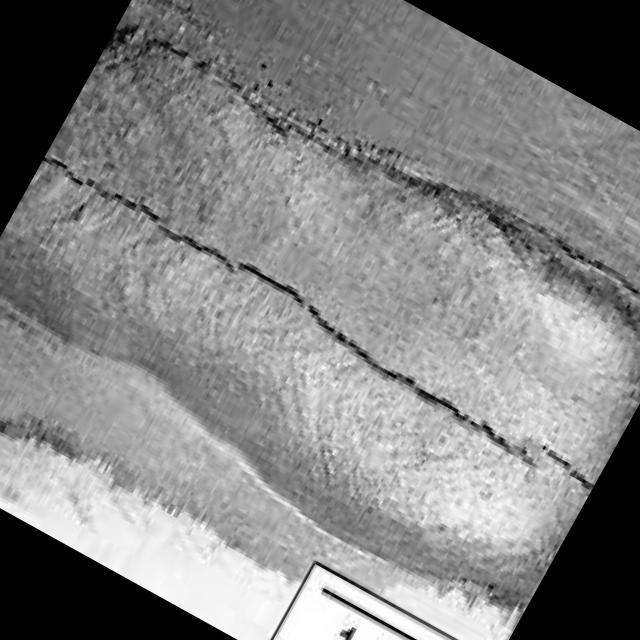defect: (44, 158, 596, 498)
